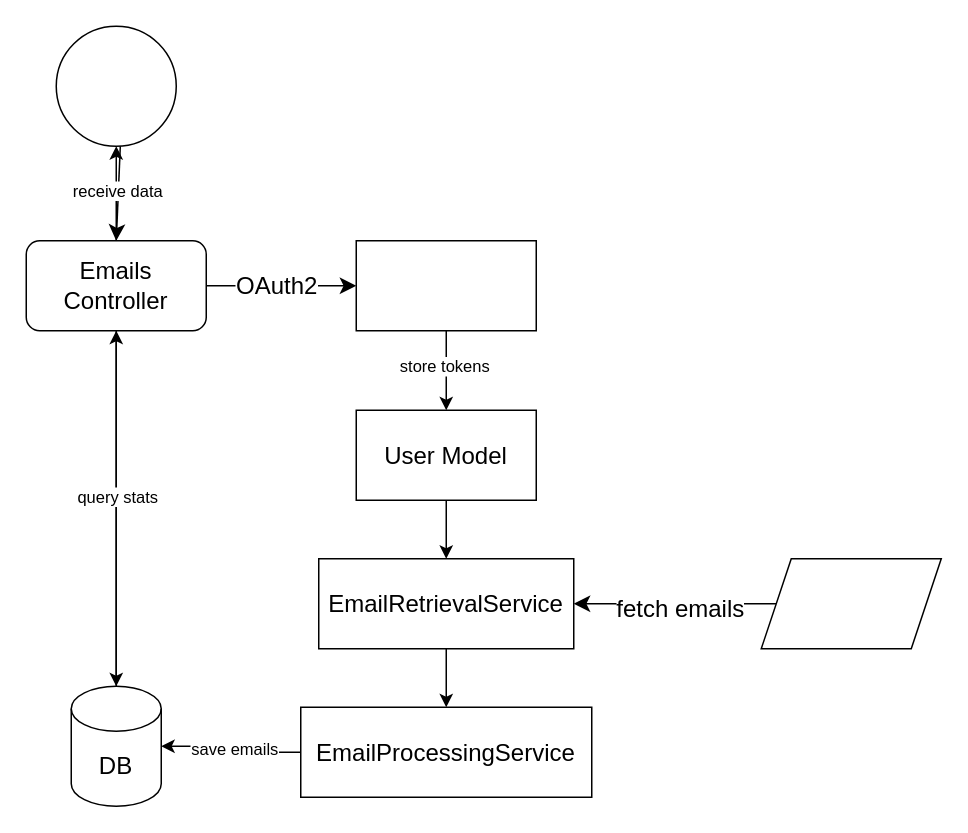
Image size: 968x833. Some labels were removed from this diagram. Each missing label, with the centre of its shape:
"AuthService" goes at pixel 445 285.
"Gmail API" goes at pixel 850 603.
"User" goes at pixel 115 85.
